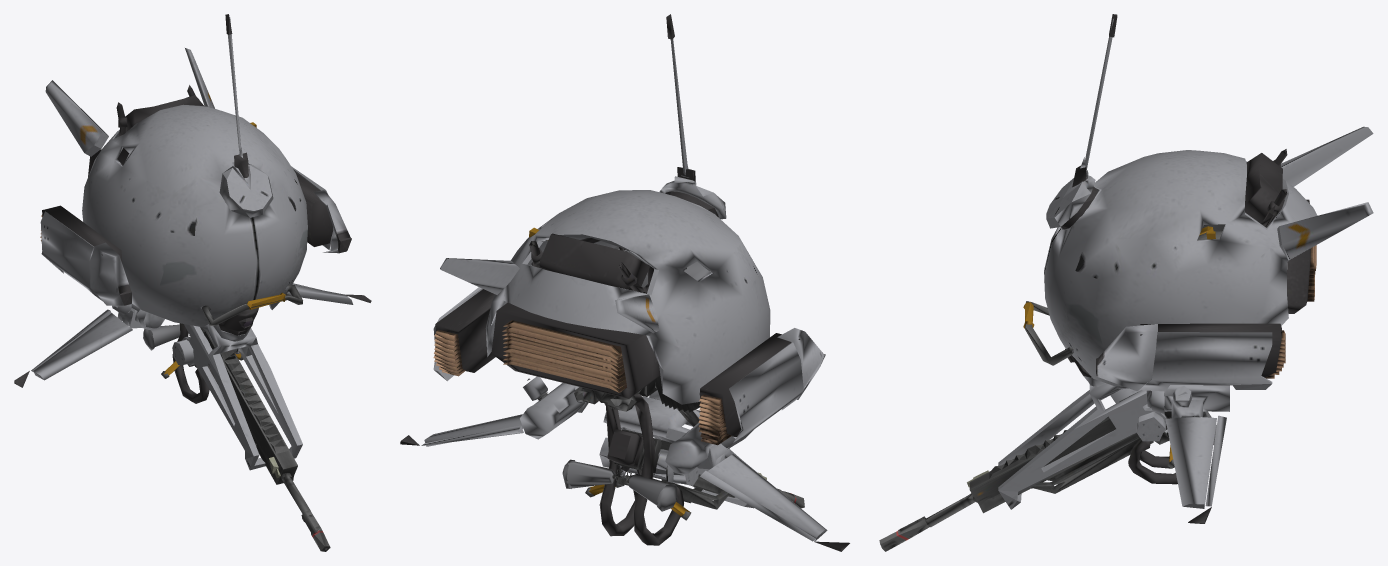
File: Drone.glb
3 renders of one model, left to right at view 1: azimuth 30°, elevation 25°; view 2: azimuth 150°, elevation 25°; view 3: azimuth 270°, elevation 25°, orthographic. The views are drawn at different scales.
Parts seen in each view (by area): view 1: Object_10; view 2: Object_10; view 3: Object_10.
Boxes of the visible parts, x1=… form: Object_10: x1=14, y1=14, x2=371, y2=551; Object_10: x1=400, y1=14, x2=849, y2=551; Object_10: x1=879, y1=14, x2=1373, y2=551.
Size of the model in its own units: 1.05 by 1.33 by 1.11.
1 material, 1 textured.
